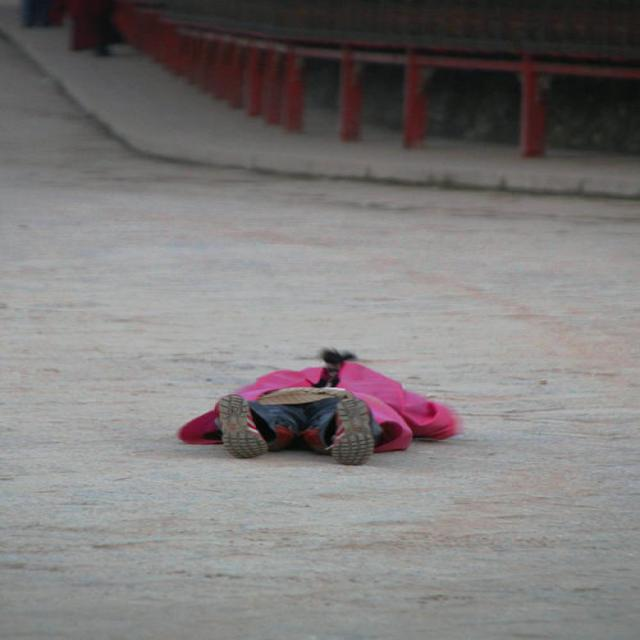fall: (207, 346, 433, 458)
